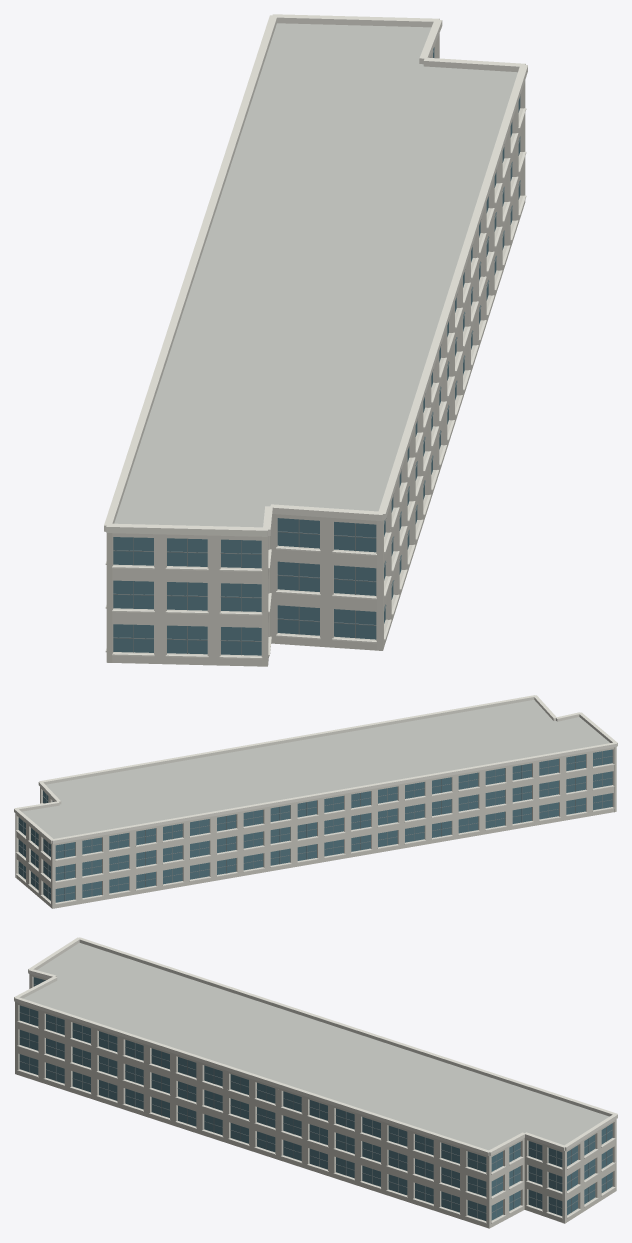
The picture shows the model from 3 angles, top to bottom: view 1: azimuth 30°, elevation 25°; view 2: azimuth 150°, elevation 25°; view 3: azimuth 270°, elevation 25°; orthographic projection. The views are drawn at different scales.
Visible parts, largest first — view 1: roof, wall, trim, glass, metal; view 2: roof, wall, glass, trim, metal; view 3: roof, wall, glass, trim, metal.
Part boxes in pixels (box(x1,y1,x2,y2)): roof: box(114, 23, 517, 527); wall: box(106, 33, 525, 666); trim: box(104, 14, 527, 659); glass: box(113, 47, 520, 655); metal: box(113, 48, 520, 655); roof: box(22, 700, 609, 838); wall: box(15, 747, 616, 908); glass: box(18, 749, 612, 902); trim: box(14, 695, 617, 904); metal: box(18, 751, 612, 900); roof: box(23, 942, 609, 1150); wall: box(15, 974, 616, 1228); glass: box(19, 977, 612, 1220); trim: box(14, 937, 617, 1223); metal: box(19, 979, 612, 1218).
Bounding box in the file's own units: 58.74 × 9.74 × 69.62.
